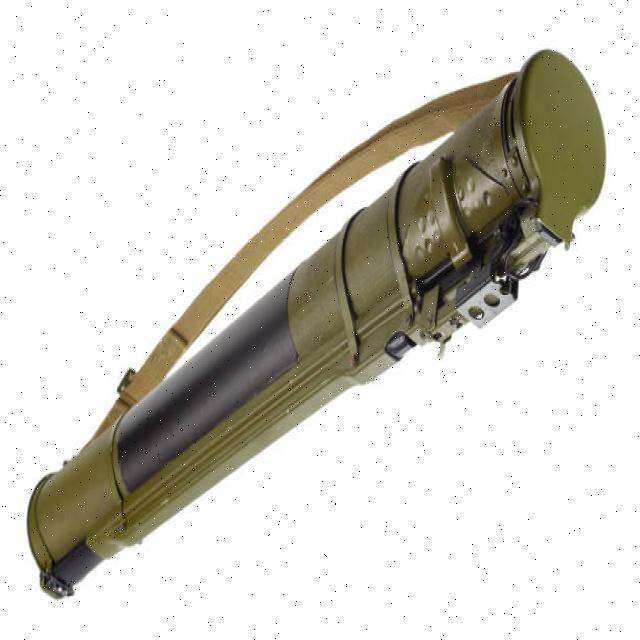bazooka: (26, 40, 615, 610)
